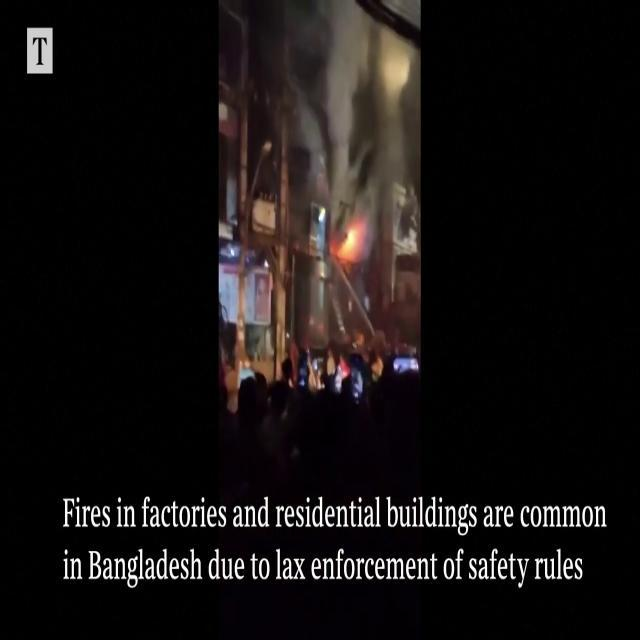Fire: (336, 213, 364, 264)
Smoke: (288, 0, 420, 286)
